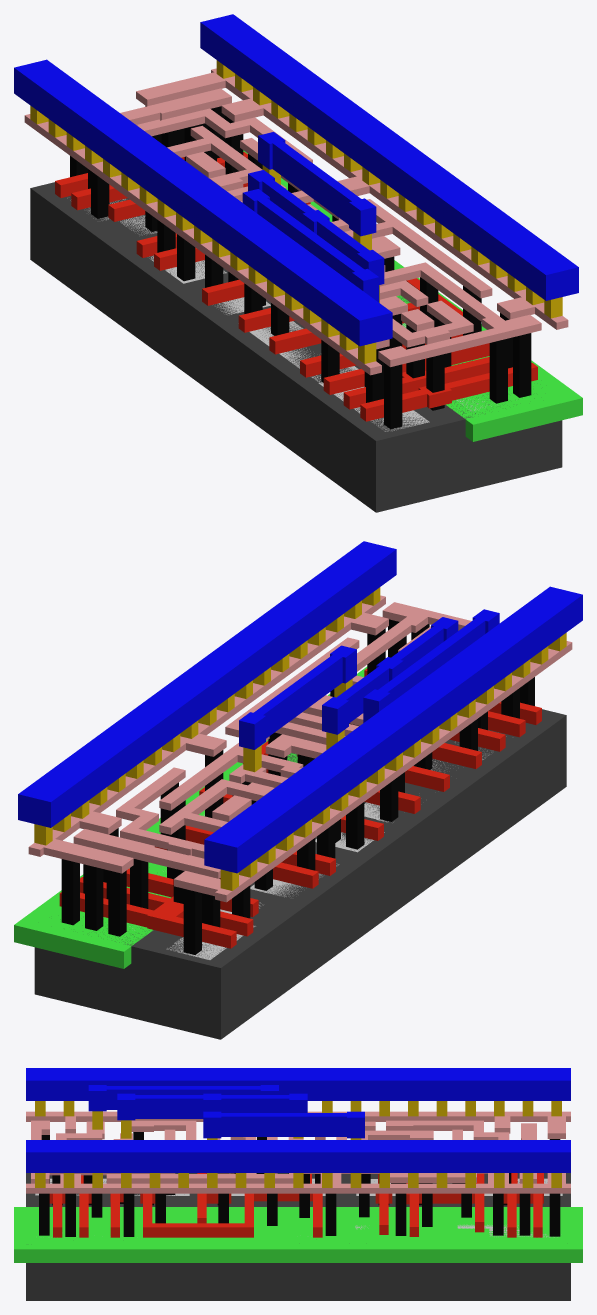
The model's file is sky130_fd_sc_hd__xnor3_2.obj.
3 views of the same model, one above another, from view 1: azimuth 30°, elevation 25°; view 2: azimuth 150°, elevation 25°; view 3: azimuth 270°, elevation 25° (orthographic). The views are drawn at different scales.
Visible parts, largest first — view 1: metal1, subs, li, licon, poly, mcon, nwell, diff; view 2: metal1, subs, li, licon, poly, mcon, nwell, diff; view 3: metal1, nwell, subs, li, poly, licon, mcon, diff.
Boxes of the visible parts, x1,y1,x2,y2 form: metal1: (14, 14, 578, 346); subs: (30, 182, 562, 512); li: (24, 68, 568, 375); licon: (70, 106, 531, 429); poly: (55, 152, 537, 421); mcon: (30, 60, 562, 363); nwell: (243, 150, 582, 441); diff: (67, 198, 429, 431); metal1: (18, 541, 582, 873); subs: (34, 709, 566, 1039); li: (28, 595, 572, 902); licon: (61, 619, 534, 954); poly: (59, 668, 541, 948); mcon: (34, 587, 566, 890); nwell: (14, 666, 367, 968); diff: (166, 736, 506, 959); metal1: (26, 1068, 570, 1172); nwell: (14, 1207, 582, 1262); subs: (26, 1173, 570, 1300); li: (26, 1111, 570, 1193); poly: (49, 1173, 543, 1237); licon: (39, 1132, 560, 1236); mcon: (35, 1101, 561, 1187); diff: (35, 1178, 562, 1195).
Bounding box in the file's own units: 3.2 × 2.74 × 9.12.
